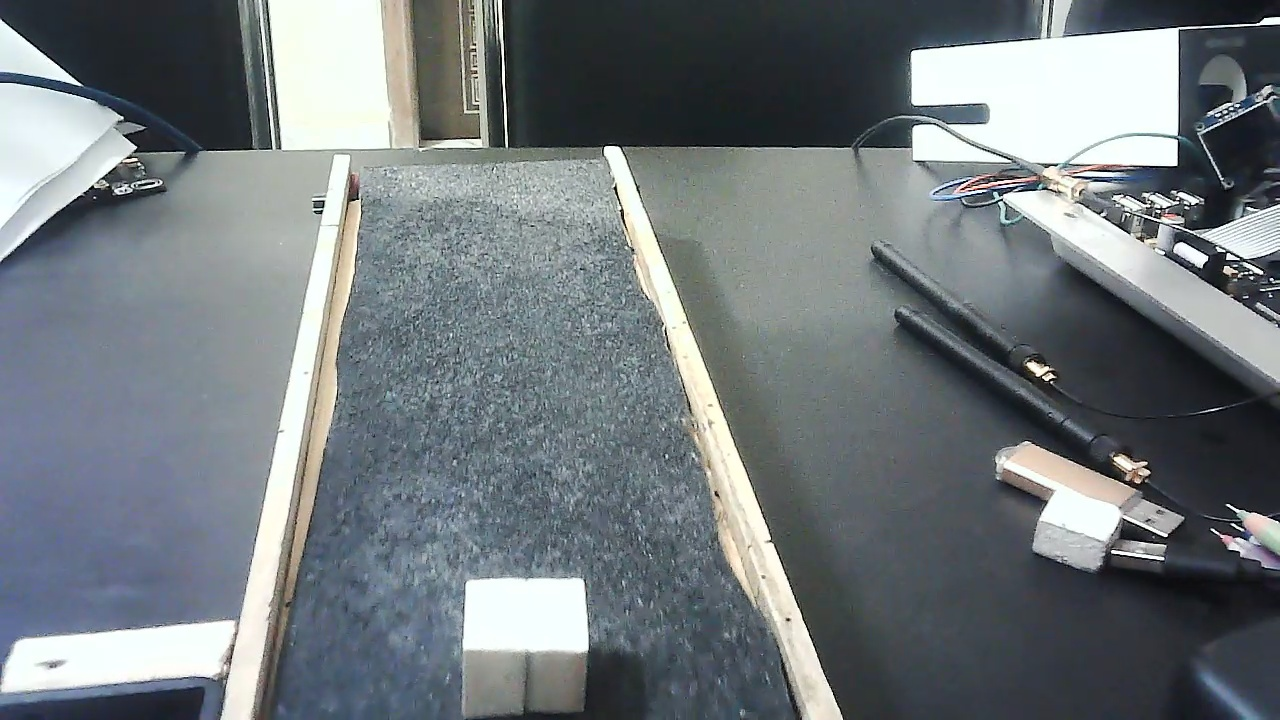Small: (453, 576, 594, 717)
